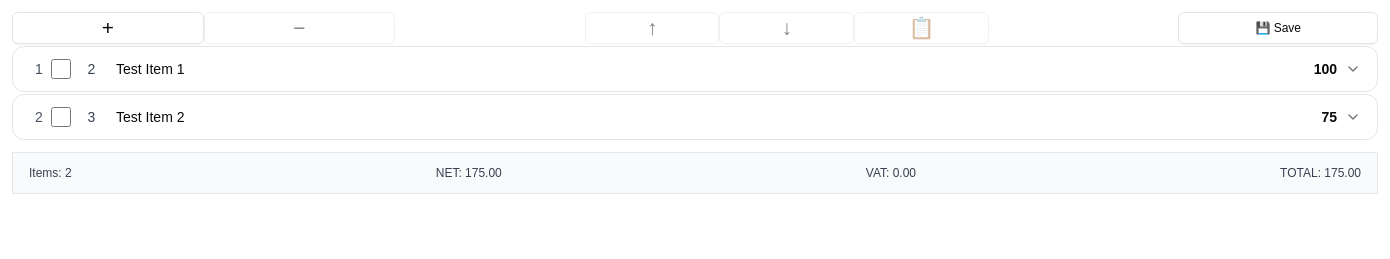
SimpleEditableTable - Add Row Functionality › should add a new row when Add Row button is clicked
Note: Click Add Row button
Click the button named "Add new row" at (108, 28), box 12,12 -> 204,44
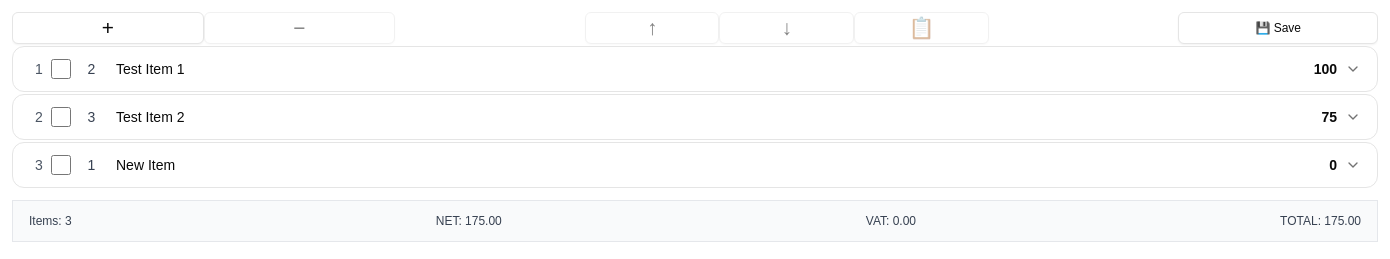
Check: the text "New Item" is shown, box 116,157 -> 175,173
